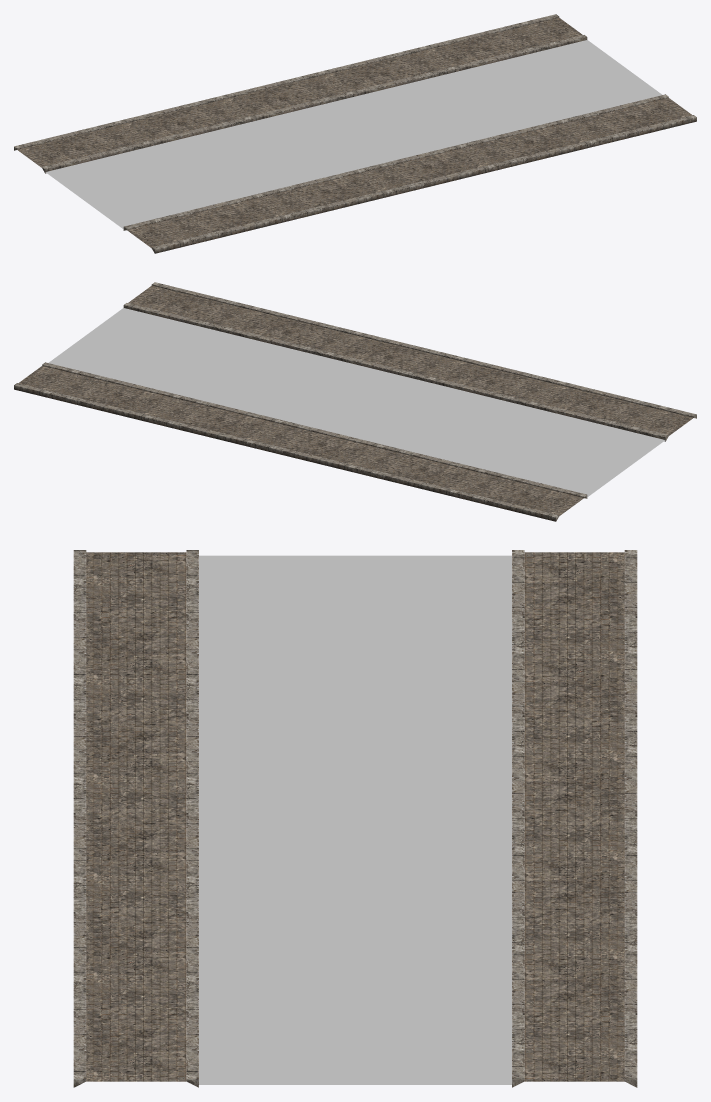
File: Road7.fbx
3 views of the same model, one above another, from view 1: azimuth 30°, elevation 25°; view 2: azimuth 150°, elevation 25°; view 3: azimuth 270°, elevation 25° (orthographic). The views are drawn at different scales.
Visible parts, largest first — view 1: polySurface51; view 2: polySurface51; view 3: polySurface51.
Boxes of the visible parts, left/top/right/bottom form: polySurface51: left=14, top=14, right=696, bottom=253; polySurface51: left=14, top=282, right=696, bottom=521; polySurface51: left=73, top=550, right=637, bottom=1087.
Bounding box in the file's own units: 20 × 0.1527 × 9.
